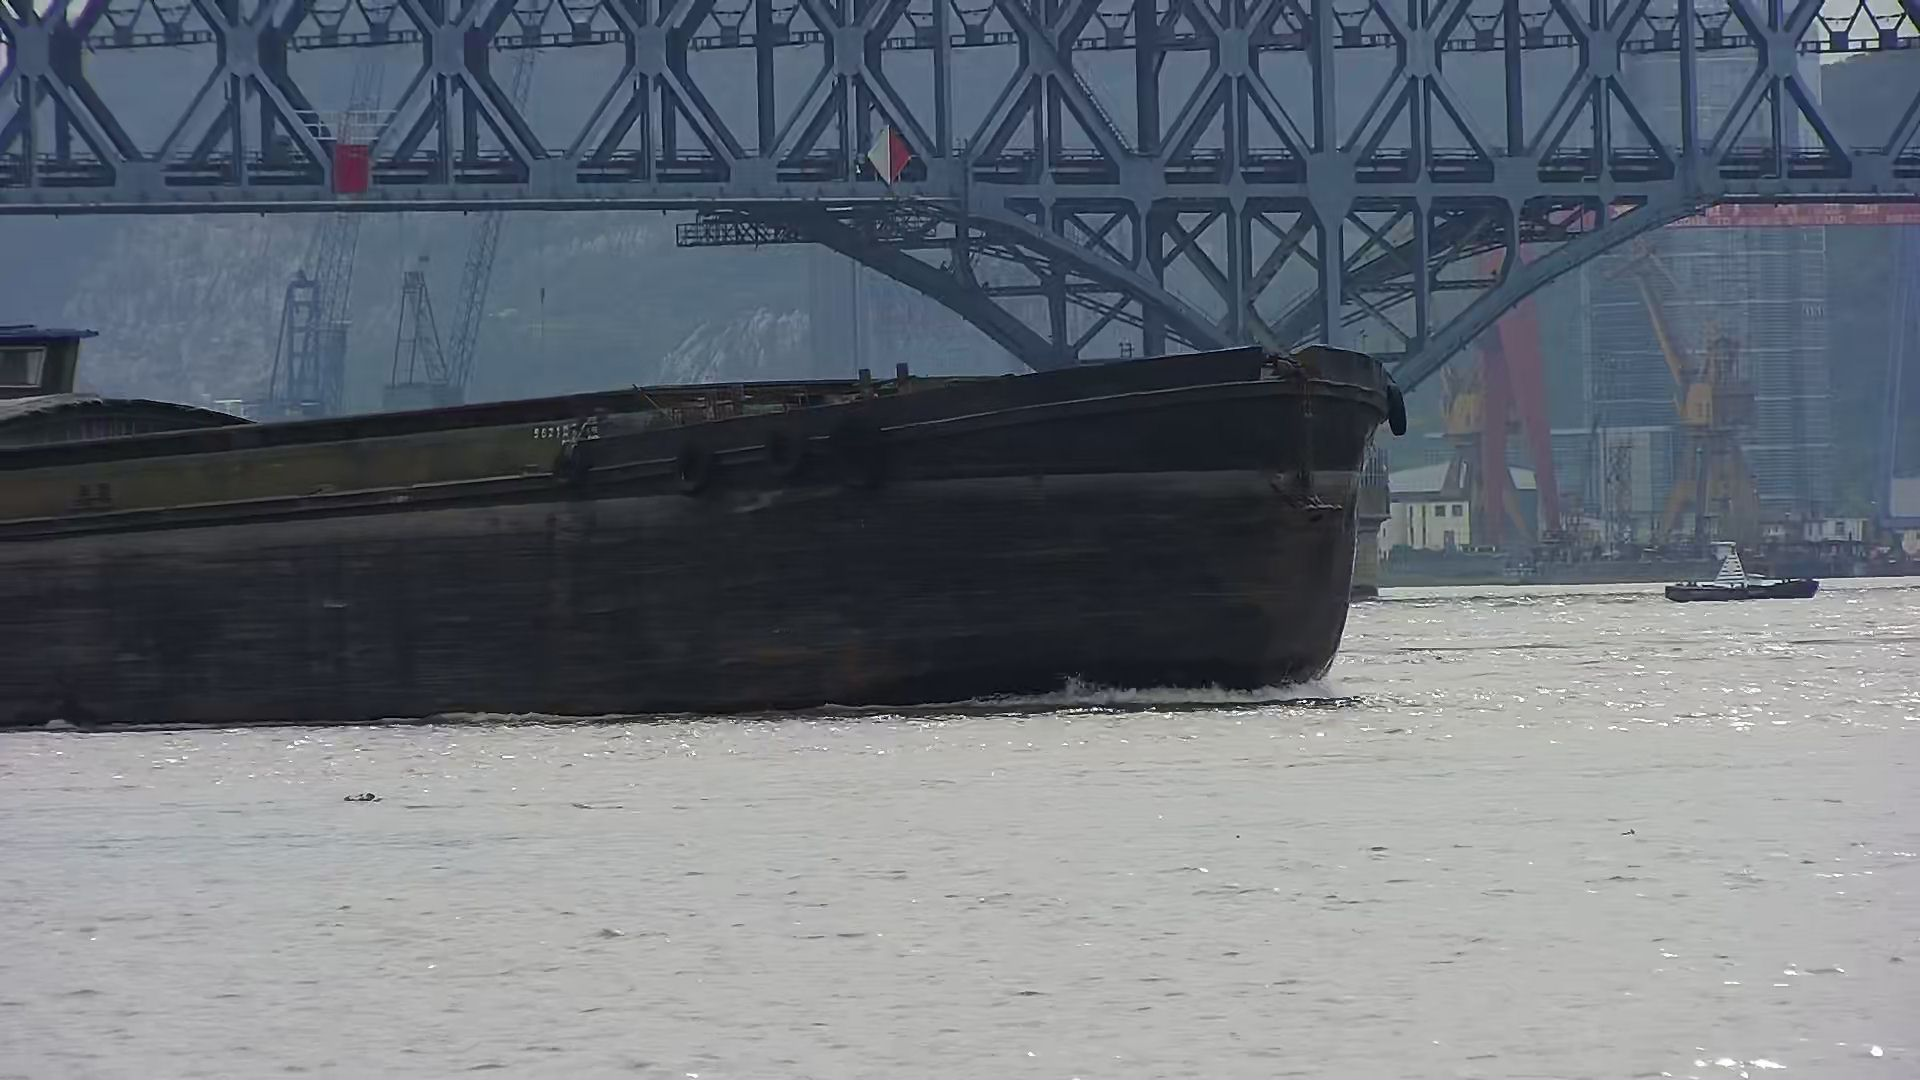boat: (1654, 527, 1830, 613)
bridge: (1, 1, 1920, 601)
ship: (1, 305, 1419, 737)
